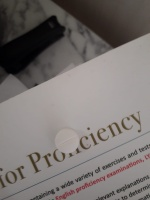Arveles: (53, 127, 80, 154)
